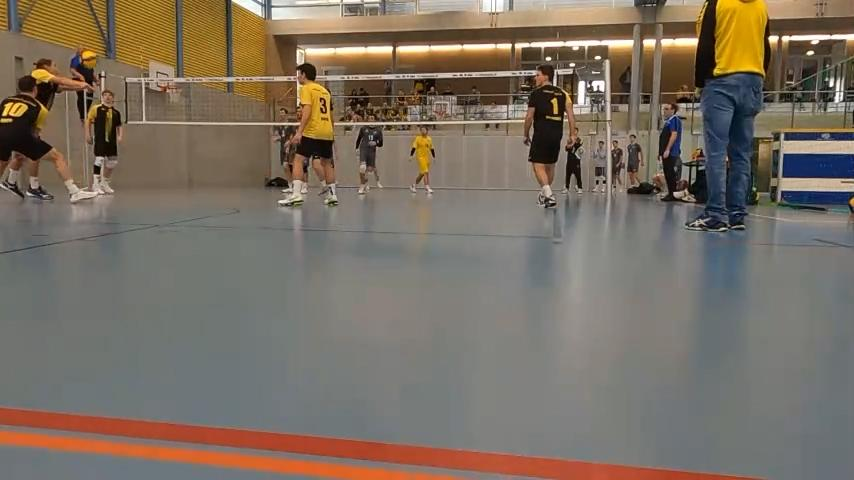ricezione: (12, 55, 100, 127)
